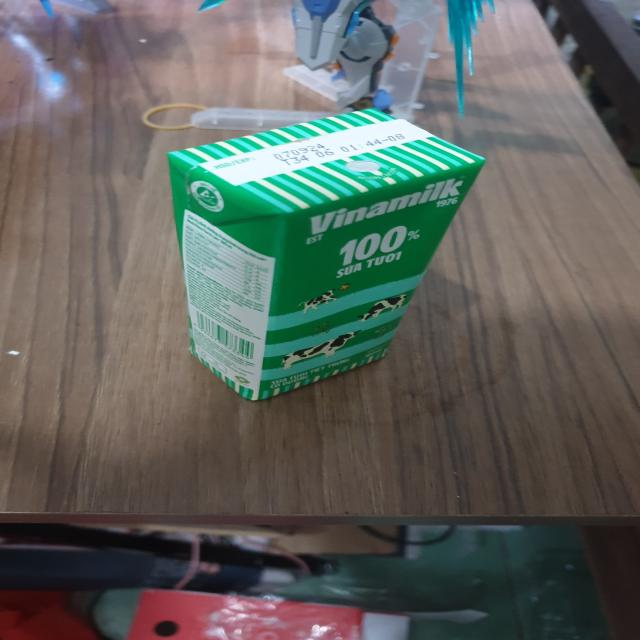Vina: (162, 106, 483, 399)
